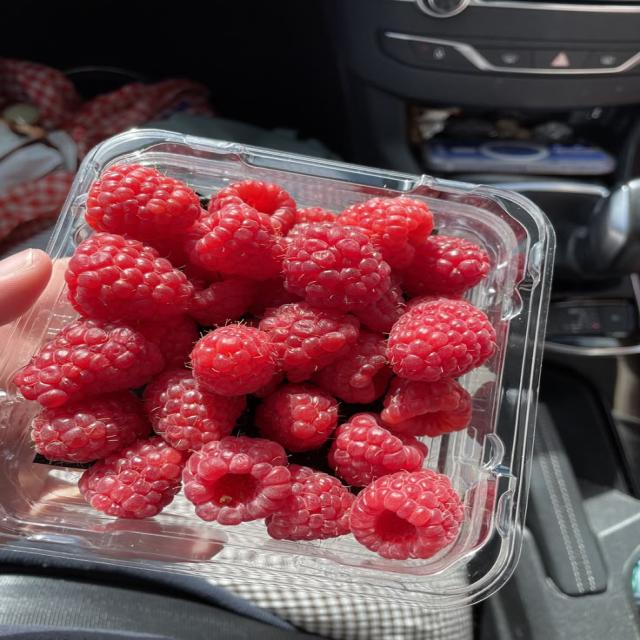raspberry: (14, 319, 164, 407), (65, 233, 193, 320), (350, 469, 464, 559), (183, 436, 292, 525), (282, 223, 390, 311), (79, 436, 187, 519), (387, 300, 495, 381), (85, 164, 200, 240), (31, 391, 151, 463), (144, 369, 246, 450), (260, 303, 359, 382), (187, 201, 281, 280), (328, 413, 426, 486), (338, 197, 433, 268), (266, 465, 354, 540), (191, 324, 275, 396), (312, 329, 392, 403), (255, 384, 338, 452), (381, 377, 473, 437), (403, 235, 490, 296), (208, 180, 296, 234), (132, 314, 199, 369), (188, 276, 256, 326), (354, 282, 405, 333), (249, 276, 301, 317), (405, 294, 472, 311), (251, 372, 285, 398), (294, 207, 336, 224)
